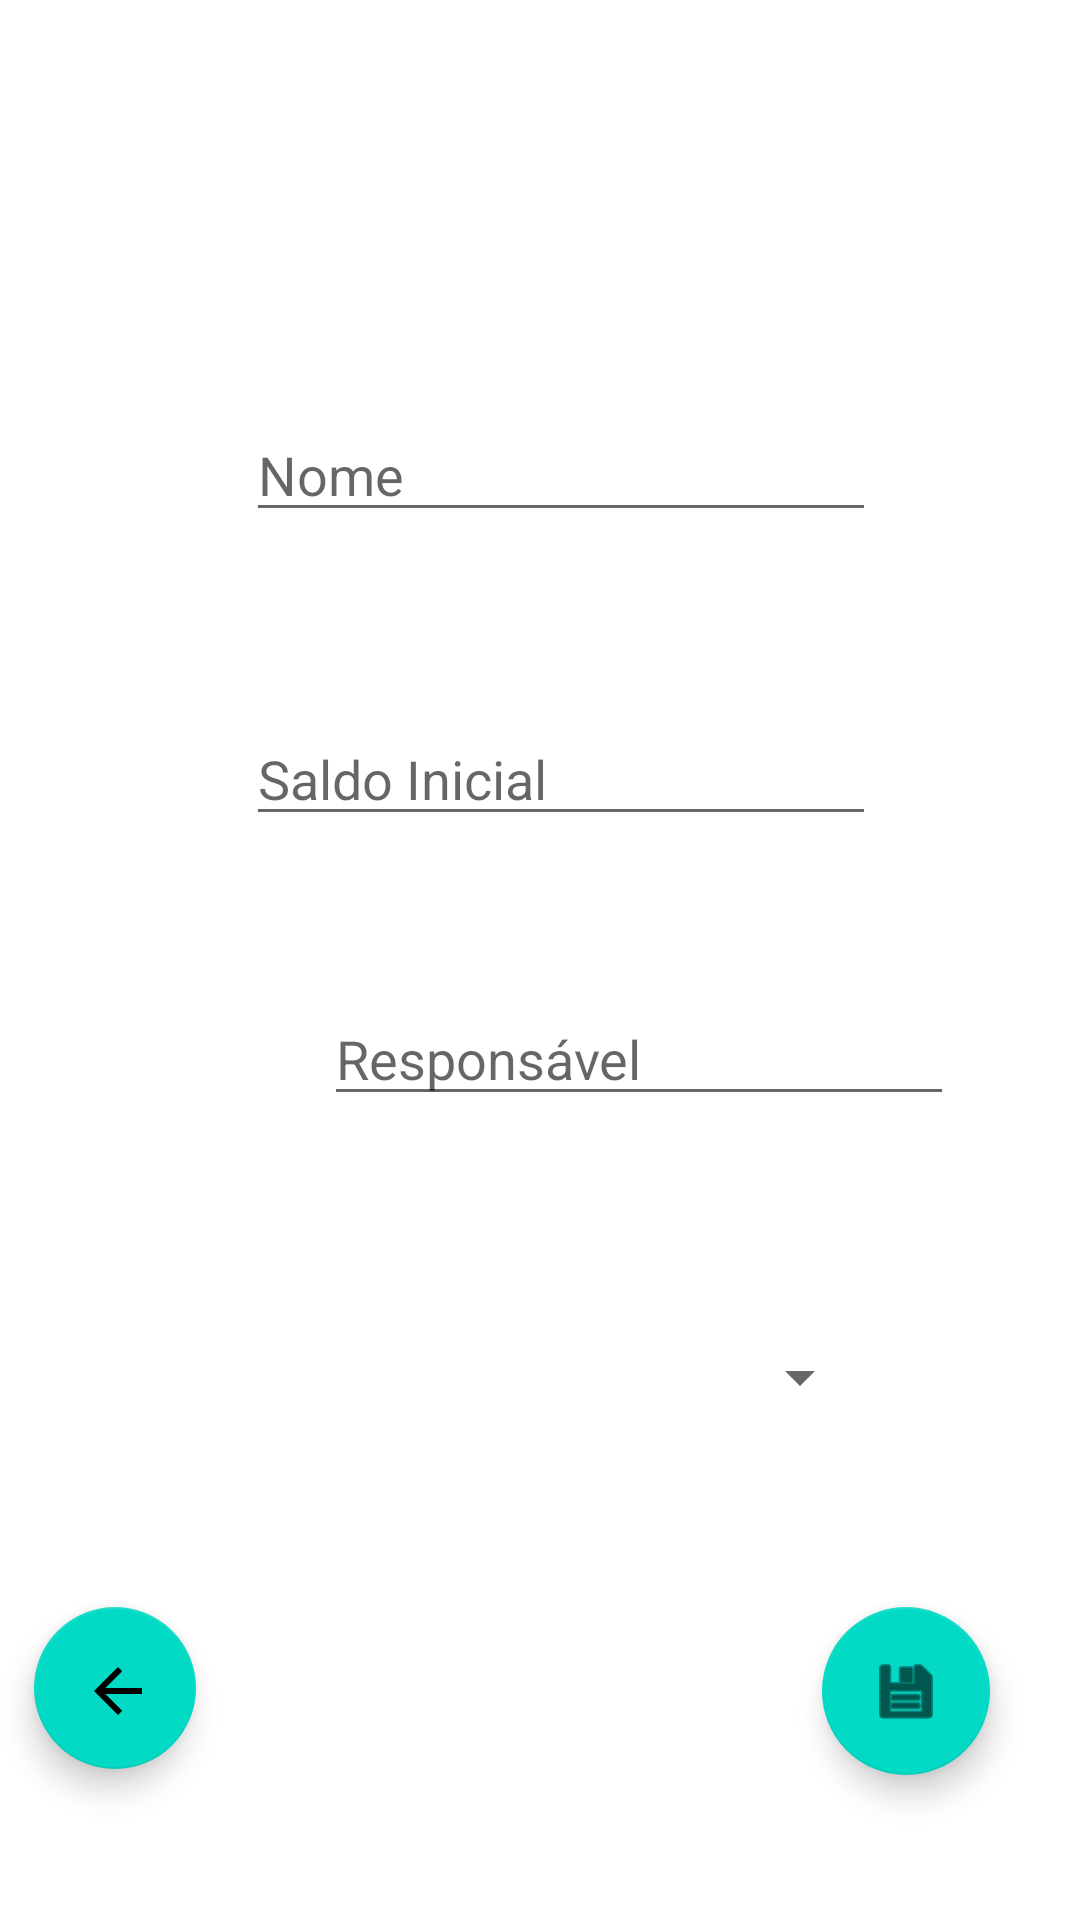

Screen size 1080px×1920px. Icon name, then its box in pixels as (x1, y1, x2, y2):
save: (822, 1607, 990, 1775)
